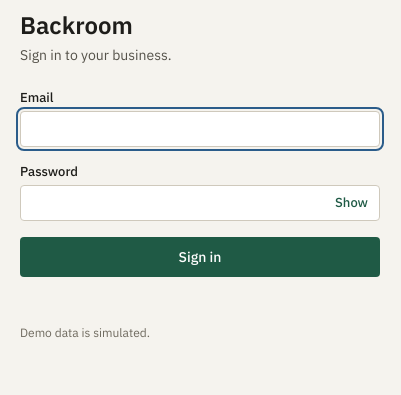
login › shows plain validation messages before sending anything
The width and height of the screenshot is (401, 395).
Click the button "Sign in" at (200, 257), box [20,237,380,277]
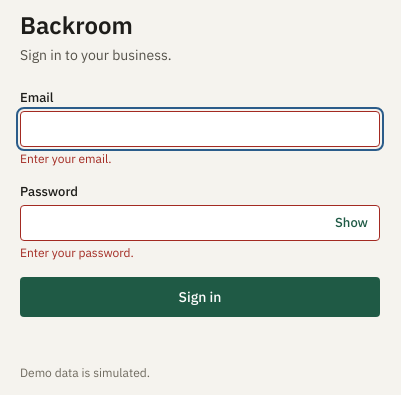
Now the text "Enter your email." is shown, box [20,151,112,166]
Now the text "Enter your password." is shown, box [20,245,134,260]
